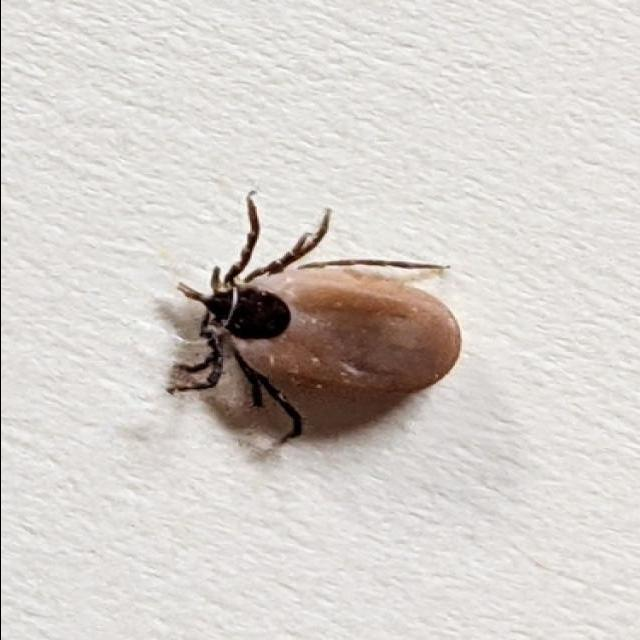Ixodes Ricinus-F-Fed: (167, 195, 461, 445)
